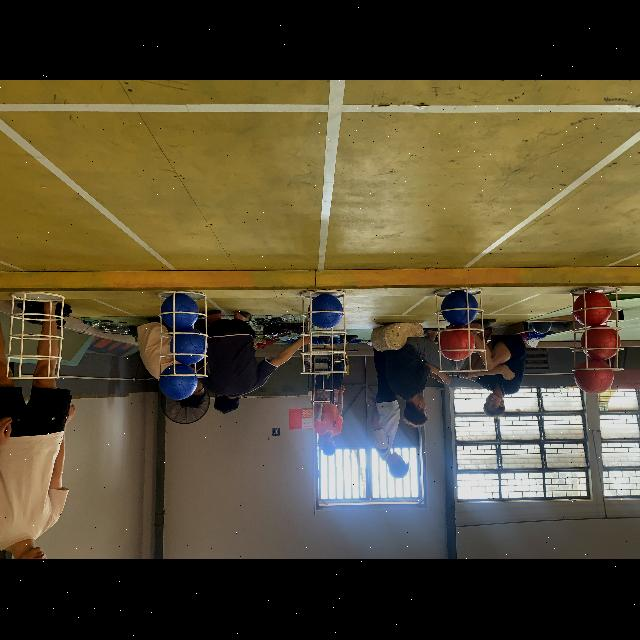B: (159, 364, 197, 402), (169, 329, 207, 365), (440, 290, 478, 326), (159, 298, 199, 328), (308, 294, 342, 328)
R: (573, 360, 615, 394), (574, 290, 612, 326), (581, 326, 621, 359), (440, 326, 474, 362)
